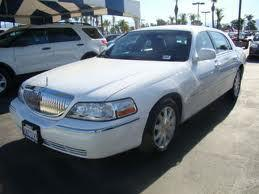Car: (9, 17, 251, 170)
